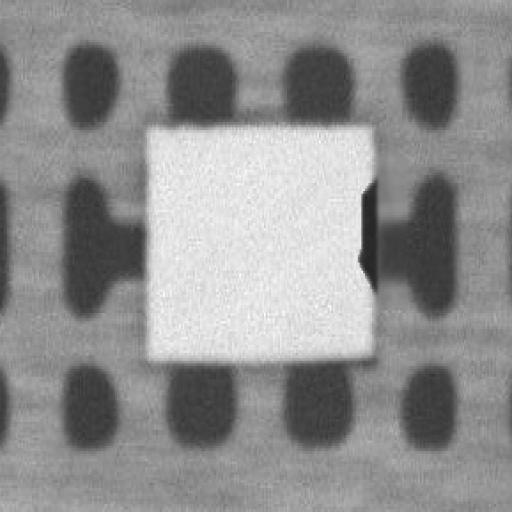DIE_BROKEN: (354, 173, 379, 297)
